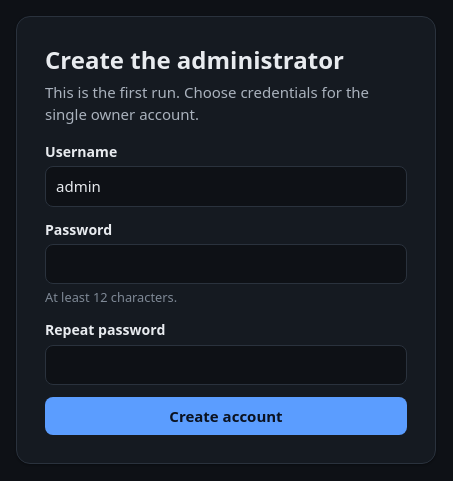
Test case: App › first run shows the setup form with client-side password checks
The image size is (453, 481).
Expected: the heading "Create the administrator" is shown, [45, 43, 344, 76]
Type "short" into the password field labelled "Password" at coordinates (226, 264), box [45, 244, 407, 284]
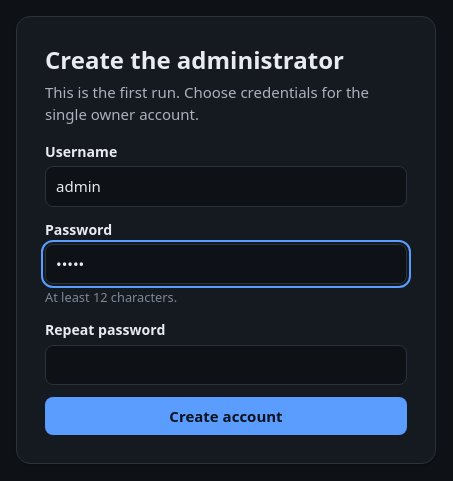
Type "short" into the password field labelled "Repeat password" at coordinates (226, 365), box [45, 344, 407, 385]
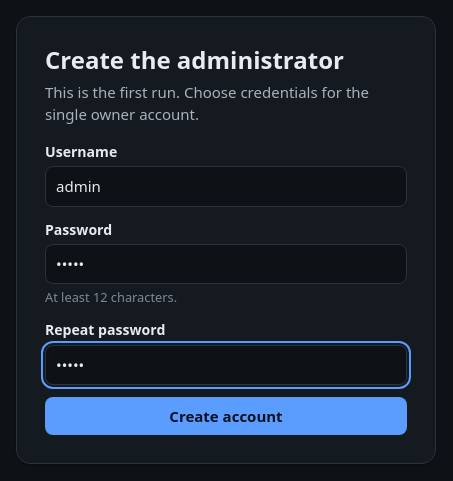
Click the button "Create account" at coordinates (226, 416), box [45, 397, 407, 435]
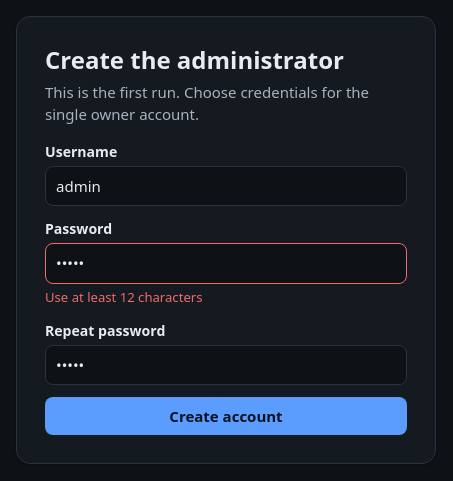
Expected: the text "Use at least 12 characters" is shown, [45, 288, 202, 306]
